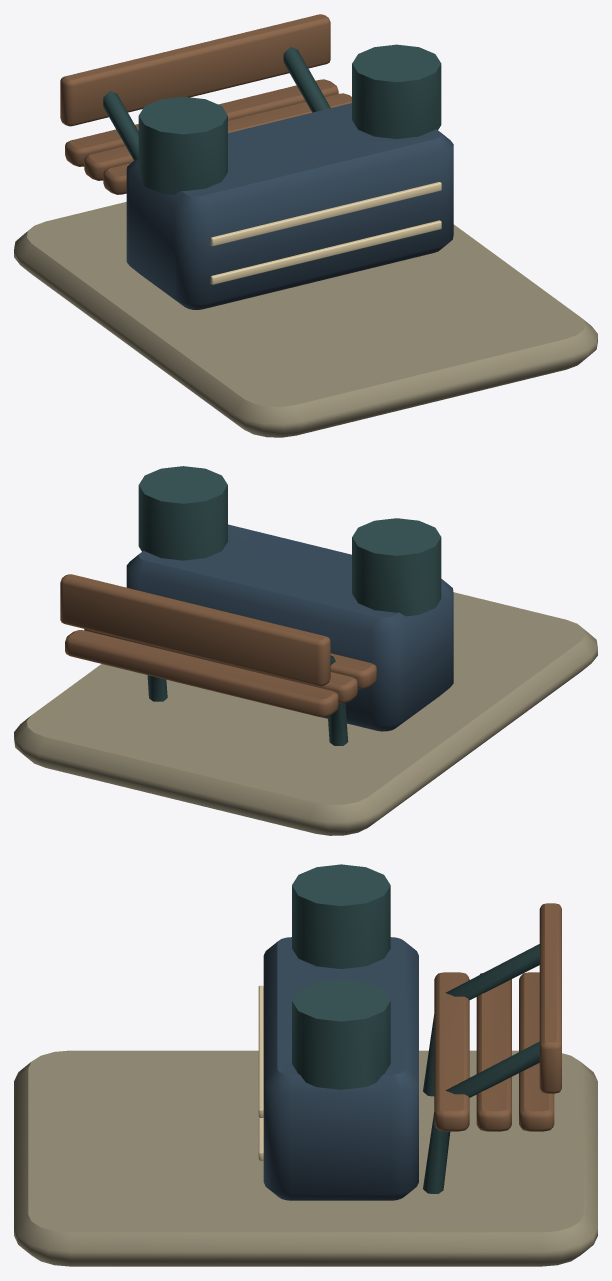
The model's file is luxury_dealership_1.glb.
The picture shows the model from 3 angles, top to bottom: view 1: azimuth 30°, elevation 25°; view 2: azimuth 150°, elevation 25°; view 3: azimuth 270°, elevation 25°; orthographic projection. The views are drawn at different scales.
Visible parts, largest first — view 1: LuxuryDealership1; view 2: LuxuryDealership1; view 3: LuxuryDealership1.
Boxes of the visible parts, x1=… form: LuxuryDealership1: x1=14, y1=14, x2=597, y2=437; LuxuryDealership1: x1=14, y1=466, x2=597, y2=835; LuxuryDealership1: x1=14, y1=864, x2=597, y2=1266.
Bounding box in the file's own units: 1.95 × 1.09 × 2.48.
